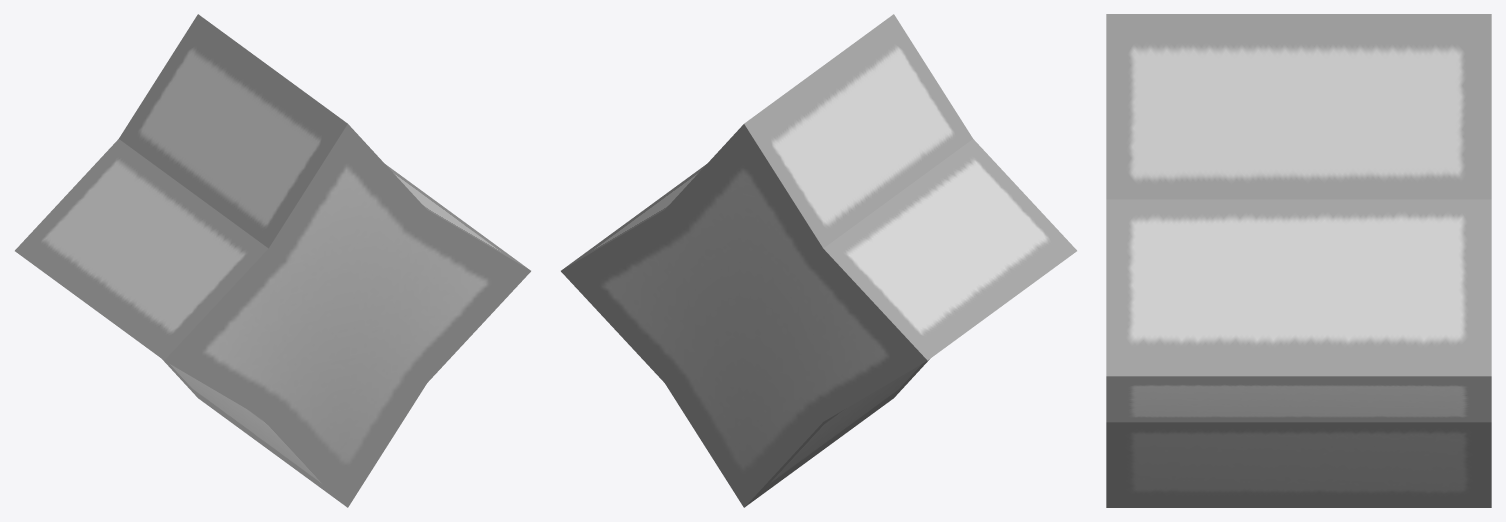
Rendered from Mao.obj.
The picture shows the model from 3 angles, left to right: view 1: azimuth 30°, elevation 25°; view 2: azimuth 150°, elevation 25°; view 3: azimuth 270°, elevation 25°; orthographic projection. The views are drawn at different scales.
Visible parts, largest first — view 1: Corpo.002_Cube.005; view 2: Corpo.002_Cube.005; view 3: Corpo.002_Cube.005.
Boxes of the visible parts, x1,y1,x2,y2 form: Corpo.002_Cube.005: (15,14,530,507); Corpo.002_Cube.005: (561,14,1076,507); Corpo.002_Cube.005: (1106,14,1491,507).
Bounding box in the file's own units: 0.4627 × 0.4627 × 0.3271.
